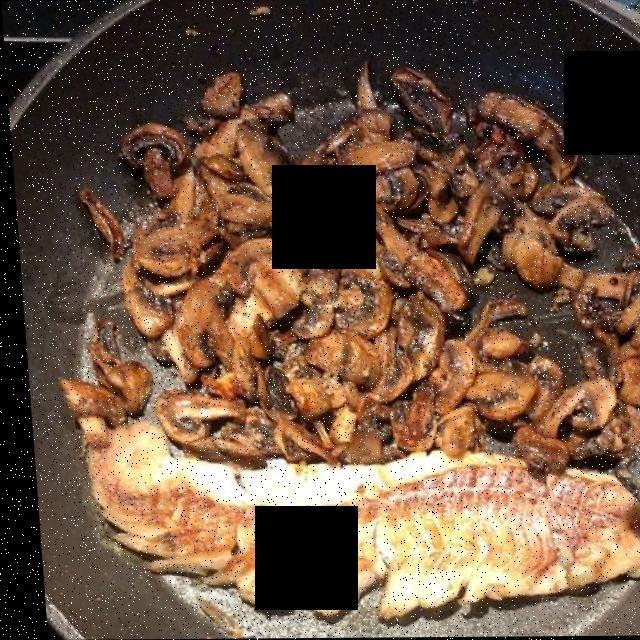fish: (86, 428, 640, 637)
mushrooms: (60, 67, 640, 476)
